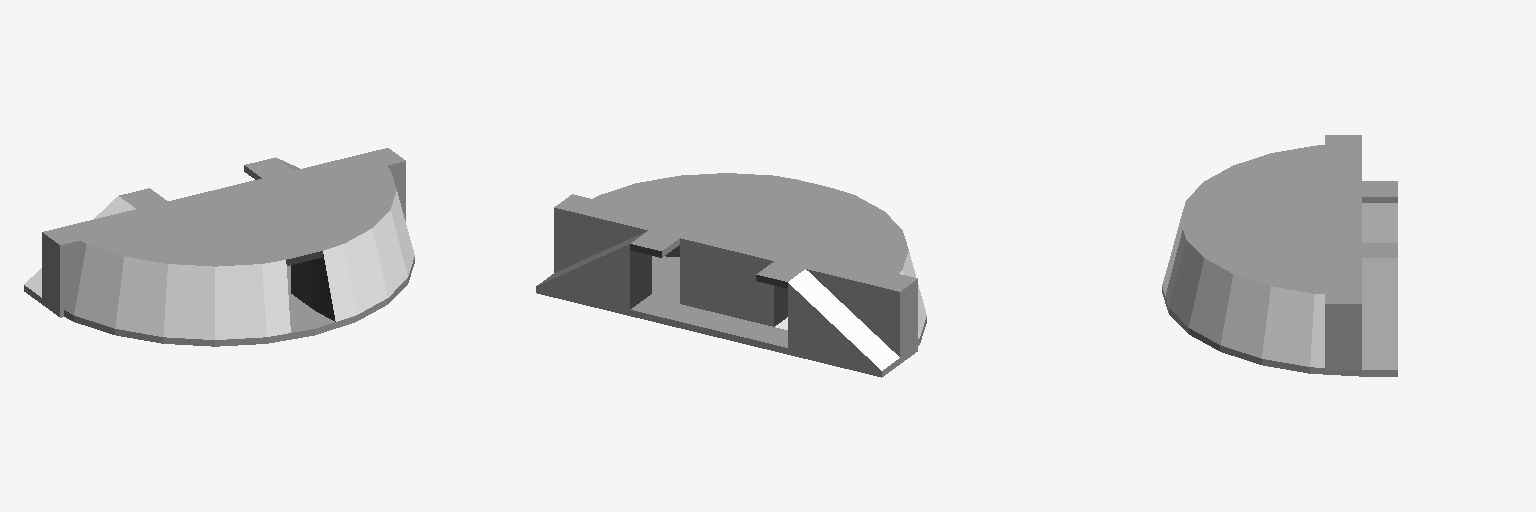
The model's file is bunker-round.obj.
3 renders of one model, left to right at view 1: azimuth 30°, elevation 25°; view 2: azimuth 150°, elevation 25°; view 3: azimuth 270°, elevation 25°, orthographic.
Visible parts, largest first — view 1: Mesh1 Bunker__Round1 Model; view 2: Mesh1 Bunker__Round1 Model; view 3: Mesh1 Bunker__Round1 Model.
Part boxes in pixels (x1,y1,x2,y2): Mesh1 Bunker__Round1 Model: (24,148,414,346); Mesh1 Bunker__Round1 Model: (536,173,926,377); Mesh1 Bunker__Round1 Model: (1162,135,1397,376).
Size of the model in its own units: 11 by 2.2 by 6.5.